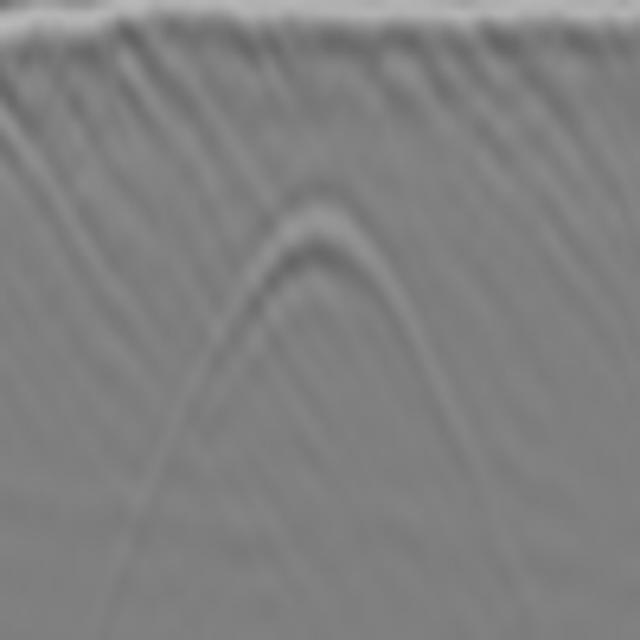hyperbola: (188, 183, 457, 424)
